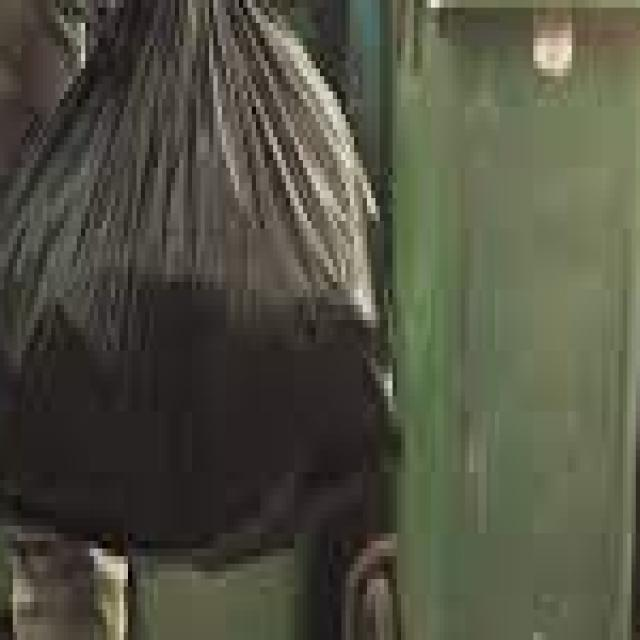Trashbag: (0, 5, 400, 559)
